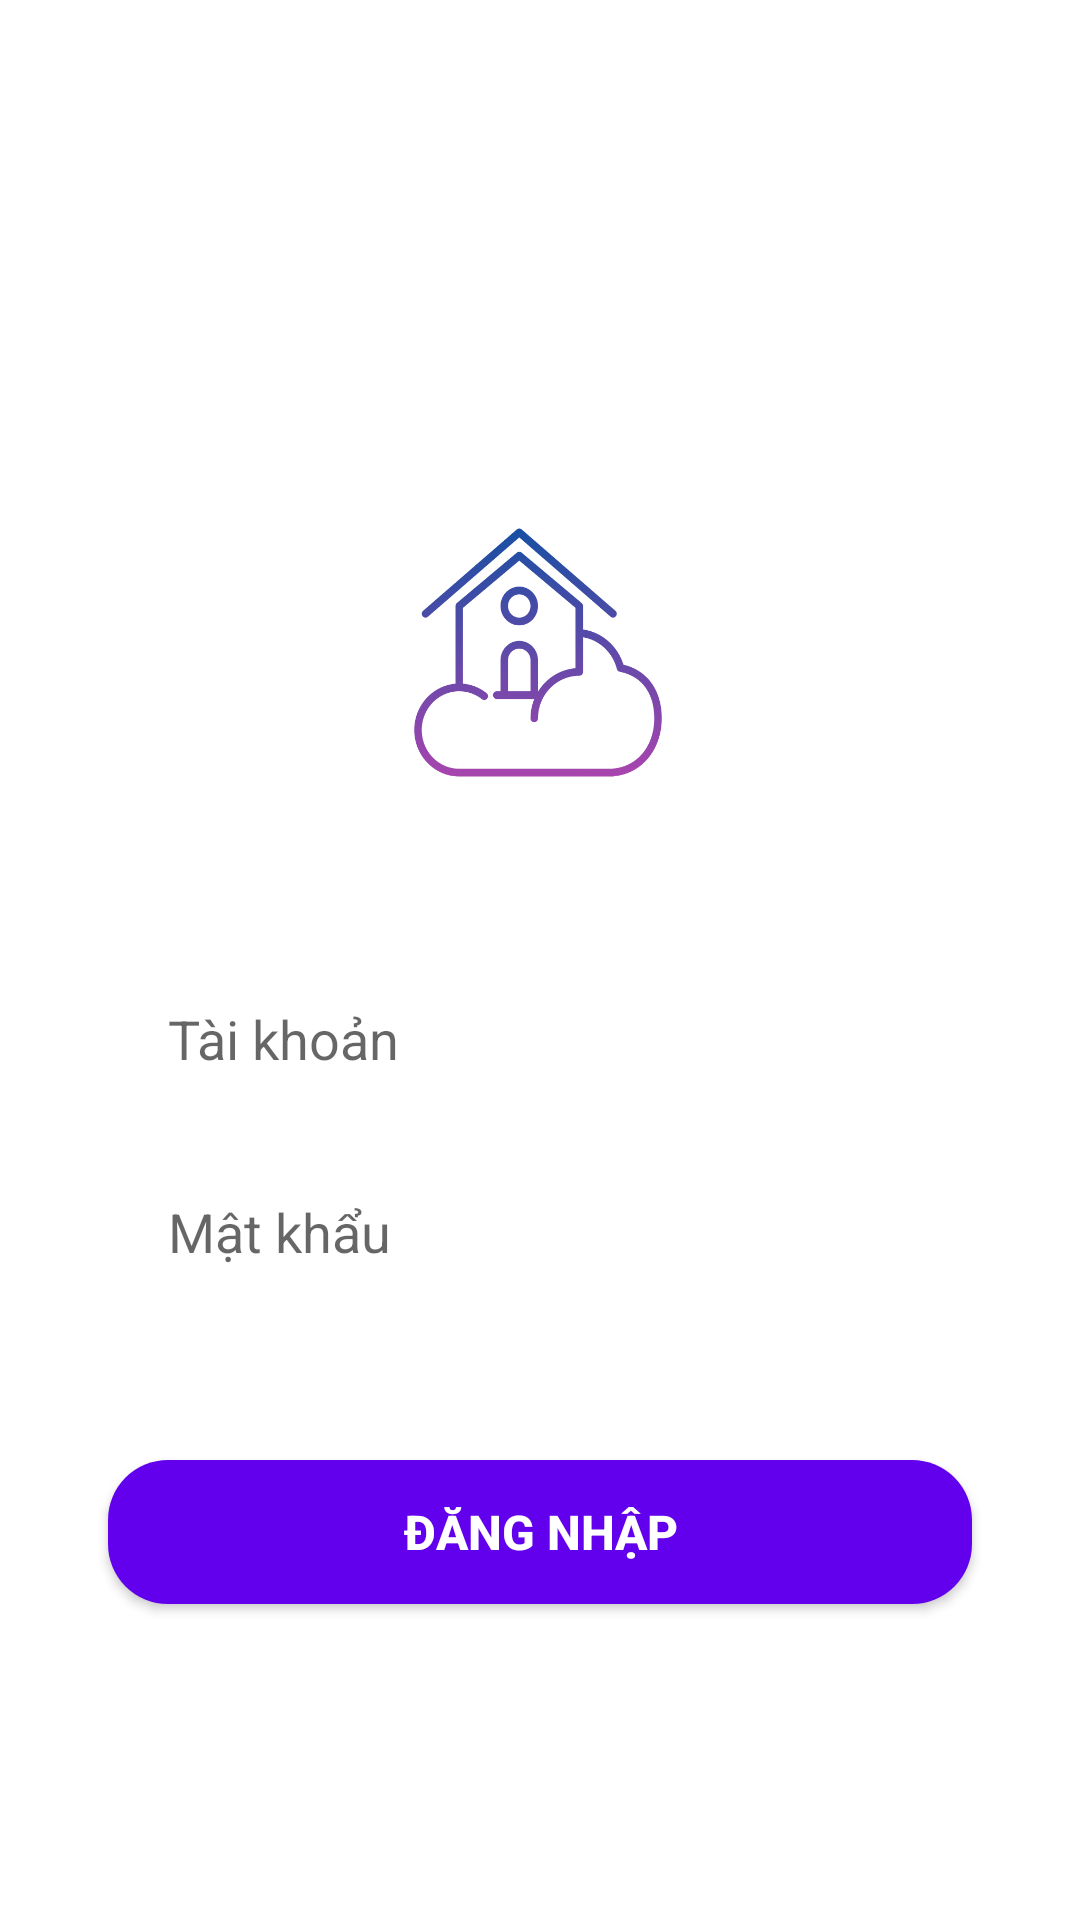

Screen size 1080w x 1920h. Icon name, then its box in pixels as box=[x1, y1, x2, y2]:
cloud: box=[414, 528, 662, 777]
